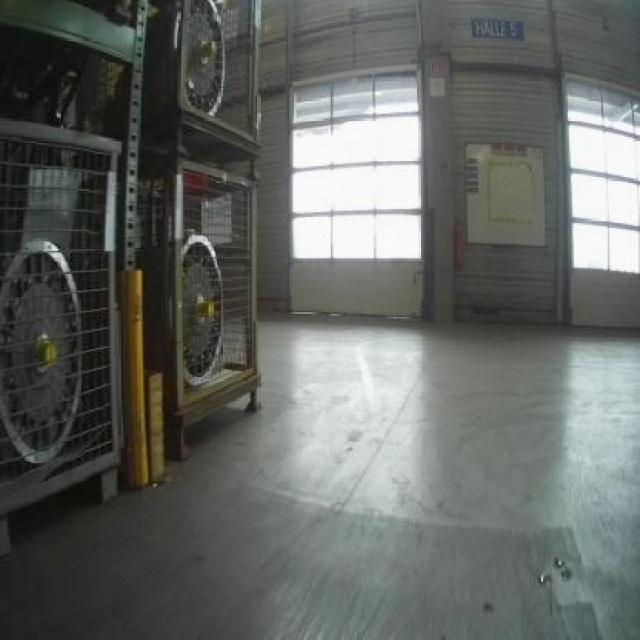floor: (0, 314, 637, 637)
